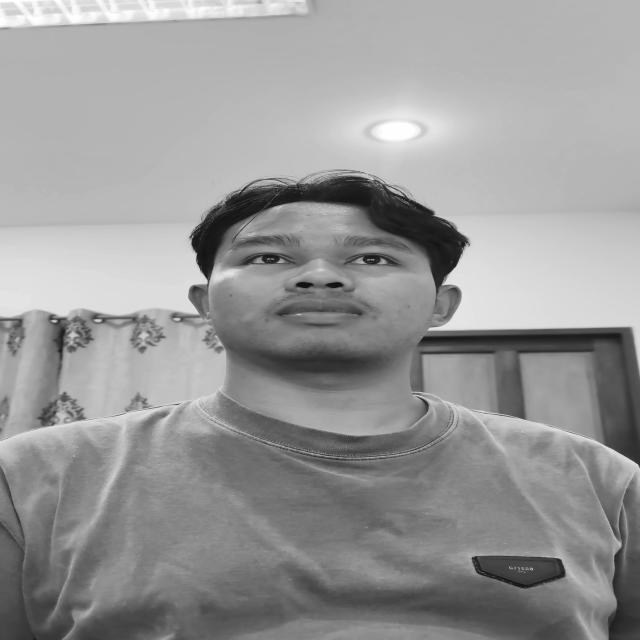ear: (430, 285, 461, 327), (188, 284, 211, 324)
